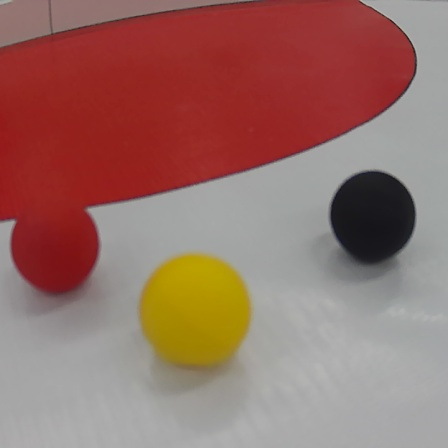black: (326, 166, 421, 264)
red: (12, 204, 101, 293)
red_base: (2, 1, 417, 209)
yellow: (137, 252, 255, 370)
